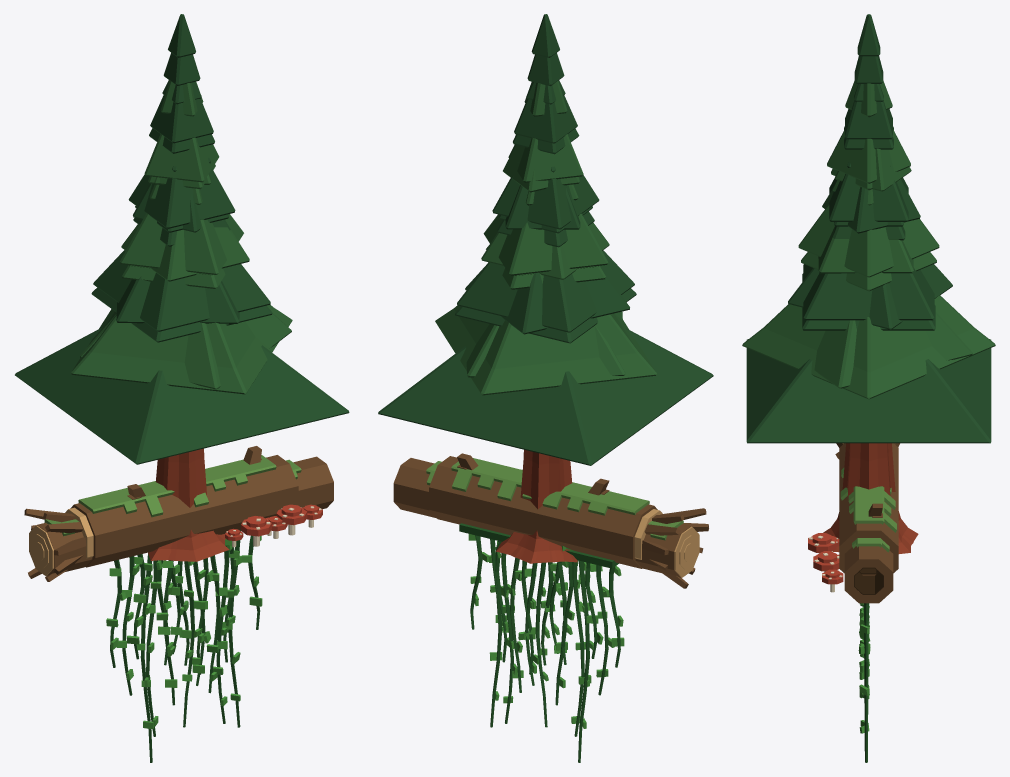
The model's file is w2_forest.fbx.
The picture shows the model from 3 angles, left to right: view 1: azimuth 30°, elevation 25°; view 2: azimuth 150°, elevation 25°; view 3: azimuth 270°, elevation 25°; orthographic projection.
Visible parts, largest first — view 1: SpruceC.Needles, BigLogB.Bark, SpruceA.Needles, SpruceA.NeedlesLight, SpruceC.NeedlesLight, SpruceD.NeedlesLight, VineHedgeB.Vines, SpruceD.Needles, BigLogB.Moss, VineHedgeB.VineLeaves, VineHedgeA.Vines, BigLogA.Bark (+9 smaller); view 2: SpruceC.Needles, BigLogB.Bark, SpruceA.NeedlesLight, SpruceA.Needles, SpruceC.NeedlesLight, VineHedgeB.Vines, SpruceD.Needles, VineHedgeA.Vines, BigLogB.Moss, SpruceD.NeedlesLight, BigLogA.Bark, VineHedgeB.VineLeaves (+8 smaller); view 3: SpruceC.Needles, SpruceA.NeedlesLight, SpruceA.Needles, SpruceC.NeedlesLight, SpruceD.NeedlesLight, SpruceD.Needles, BigLogB.Bark, BigLogA.Bark, SpruceB.Trunk, SpruceB.Needles, BigLogB.Moss, SpruceB.NeedlesLight (+7 smaller).
Part boxes in pixels (x1=…): SpruceC.Needles: x1=15, y1=158, x2=349, y2=464; BigLogB.Bark: x1=24, y1=446, x2=298, y2=581; SpruceA.Needles: x1=93, y1=80, x2=270, y2=331; SpruceA.NeedlesLight: x1=90, y1=134, x2=273, y2=368; SpruceC.NeedlesLight: x1=71, y1=184, x2=292, y2=394; SpruceD.NeedlesLight: x1=80, y1=173, x2=291, y2=389; VineHedgeB.Vines: x1=110, y1=530, x2=260, y2=762; SpruceD.Needles: x1=116, y1=128, x2=239, y2=323; BigLogB.Moss: x1=78, y1=455, x2=276, y2=517; VineHedgeB.VineLeaves: x1=106, y1=536, x2=262, y2=729; VineHedgeA.Vines: x1=133, y1=547, x2=234, y2=736; BigLogA.Bark: x1=37, y1=456, x2=333, y2=575; SpruceC.Needles: x1=378, y1=162, x2=713, y2=465; BigLogB.Bark: x1=429, y1=453, x2=708, y2=588; SpruceA.NeedlesLight: x1=453, y1=134, x2=638, y2=369; SpruceA.Needles: x1=457, y1=80, x2=634, y2=332; SpruceC.NeedlesLight: x1=435, y1=184, x2=656, y2=395; VineHedgeB.Vines: x1=459, y1=523, x2=620, y2=762; SpruceD.Needles: x1=465, y1=128, x2=629, y2=334; VineHedgeA.Vines: x1=484, y1=531, x2=597, y2=736; BigLogB.Moss: x1=451, y1=458, x2=649, y2=515; SpruceD.NeedlesLight: x1=466, y1=145, x2=625, y2=377; BigLogA.Bark: x1=393, y1=458, x2=691, y2=577; VineHedgeB.VineLeaves: x1=468, y1=534, x2=624, y2=728; SpruceC.Needles: x1=746, y1=162, x2=991, y2=443; SpruceA.NeedlesLight: x1=764, y1=129, x2=973, y2=372; SpruceA.Needles: x1=803, y1=84, x2=934, y2=320; SpruceC.NeedlesLight: x1=742, y1=180, x2=995, y2=399; SpruceD.NeedlesLight: x1=814, y1=148, x2=972, y2=388; SpruceD.Needles: x1=788, y1=126, x2=952, y2=329; BigLogB.Bark: x1=835, y1=443, x2=899, y2=575; BigLogA.Bark: x1=844, y1=513, x2=893, y2=603; SpruceB.Trunk: x1=823, y1=443, x2=910, y2=553; SpruceB.Needles: x1=834, y1=14, x2=903, y2=226; BigLogB.Moss: x1=840, y1=467, x2=896, y2=532; SpruceB.NeedlesLight: x1=831, y1=81, x2=892, y2=190.
Bounding box in the file's own units: 22.6 × 55.52 × 17.37.
